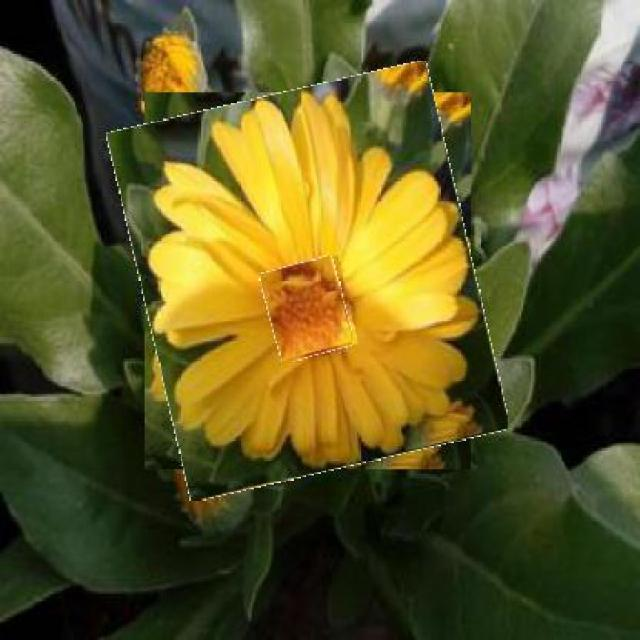Flower: (126, 76, 492, 487), (264, 260, 350, 360)
